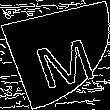M_N: (19, 23, 91, 87)
